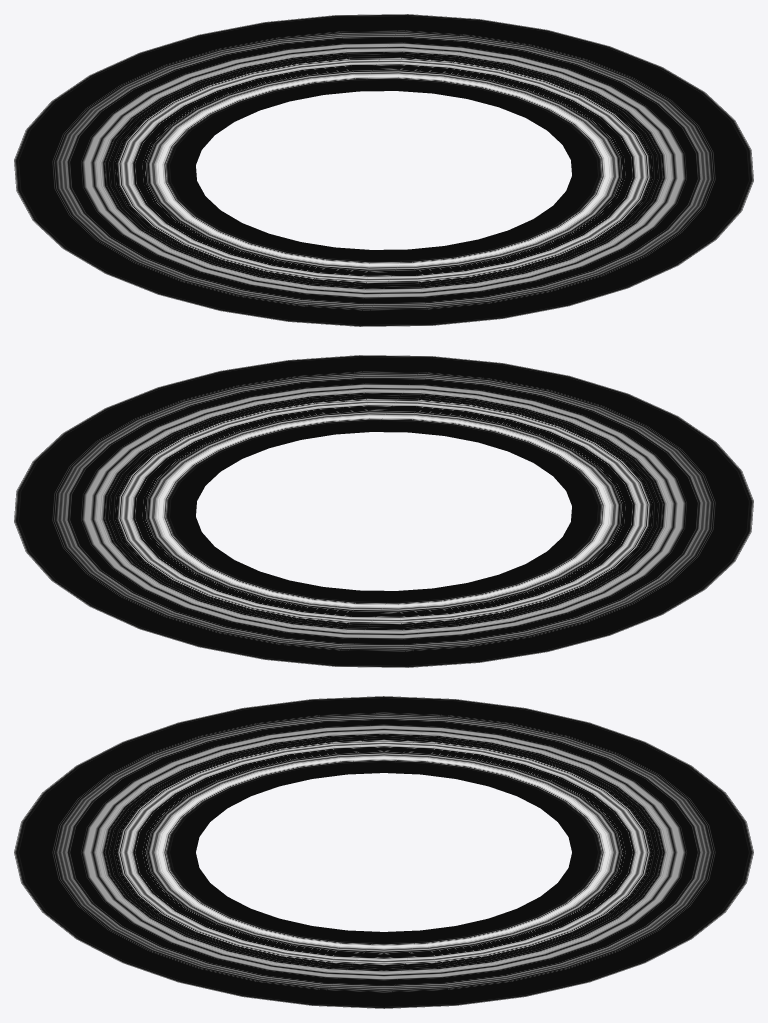
Rendered from uranusrings.obj.
3 views of the same model, one above another, from view 1: azimuth 30°, elevation 25°; view 2: azimuth 150°, elevation 25°; view 3: azimuth 270°, elevation 25° (orthographic).
Visible parts, largest first — view 1: uranusrings_Circle; view 2: uranusrings_Circle; view 3: uranusrings_Circle.
Part boxes in pixels (x1,y1,x2,y2): uranusrings_Circle: (14,14,753,326); uranusrings_Circle: (14,355,753,667); uranusrings_Circle: (14,696,753,1008).
Bounding box in the file's own units: 7.87 × 0 × 7.87.
1 material, 1 textured.
